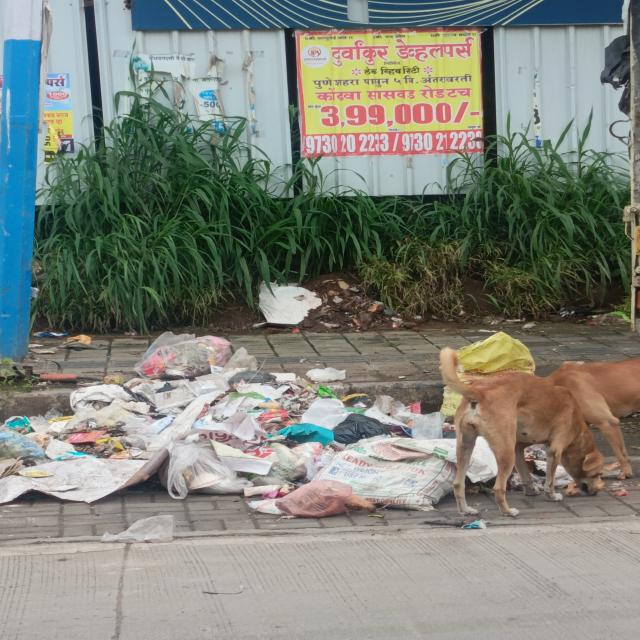garbage: (0, 335, 525, 534)
